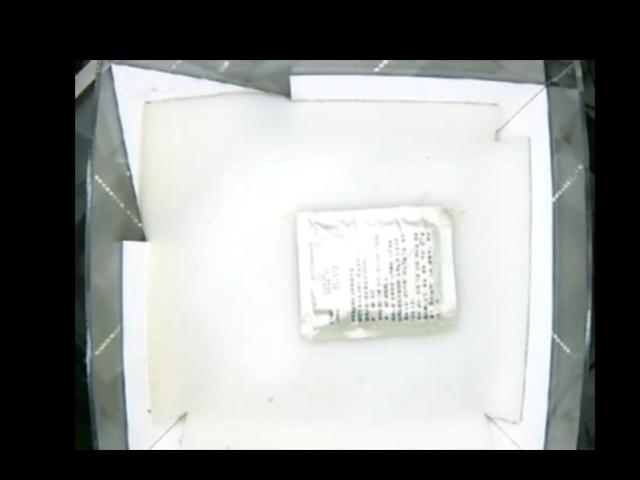Medicine: (300, 204, 456, 340)
